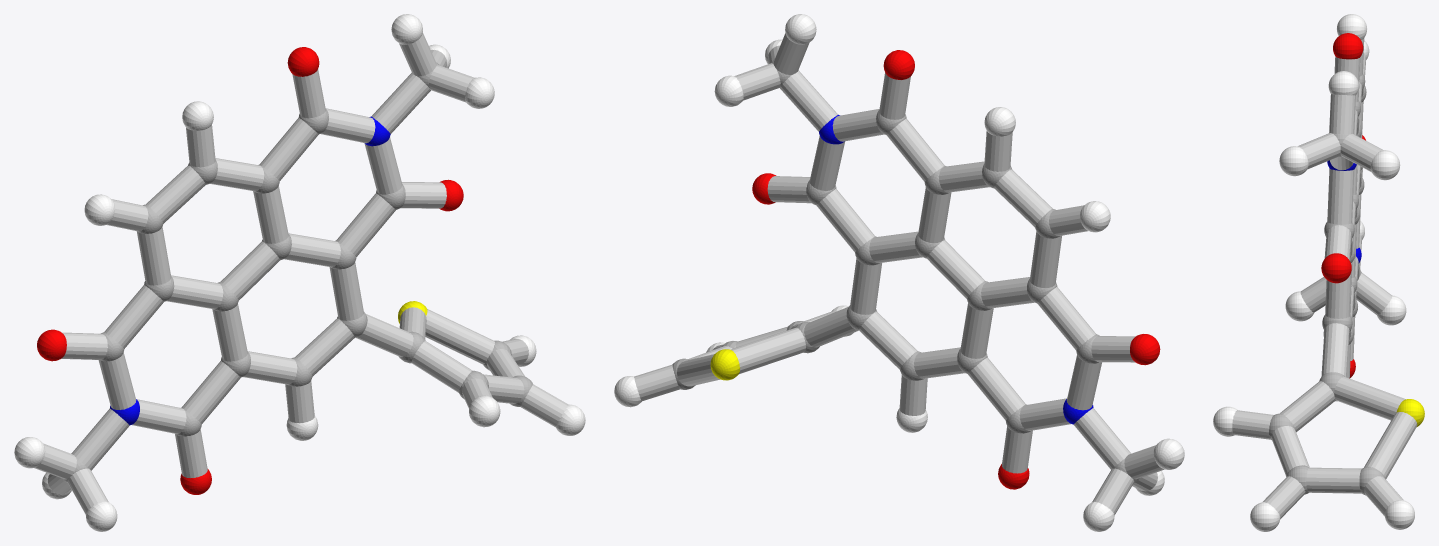
The model's file is Dimethyl_Naphthalene_Dicarboximide_Phi_5_Theta_100_Thiophene.glb.
3 renders of one model, left to right at view 1: azimuth 30°, elevation 25°; view 2: azimuth 150°, elevation 25°; view 3: azimuth 270°, elevation 25°, orthographic. The views are drawn at different scales.
Parts seen in each view (by area): view 1: grp14119, grp7241, grp1, grp12309, grp11585; view 2: grp14119, grp7241, grp1, grp12309, grp13757, grp11585; view 3: grp14119, grp7241, grp1, grp12309, grp13757.
Part boxes in pixels (x1=…): grp14119: x1=34, y1=32, x2=568, y2=514; grp7241: x1=14, y1=14, x2=585, y2=531; grp1: x1=63, y1=62, x2=532, y2=482; grp12309: x1=37, y1=47, x2=463, y2=494; grp11585: x1=110, y1=116, x2=390, y2=425; grp14119: x1=634, y1=33, x2=1164, y2=514; grp7241: x1=614, y1=14, x2=1184, y2=531; grp1: x1=672, y1=60, x2=1139, y2=482; grp12309: x1=752, y1=50, x2=1160, y2=489; grp13757: x1=710, y1=349, x2=739, y2=380; grp11585: x1=819, y1=114, x2=1093, y2=424; grp14119: x1=1232, y1=38, x2=1417, y2=518; grp7241: x1=1213, y1=14, x2=1414, y2=531; grp1: x1=1269, y1=74, x2=1385, y2=495; grp12309: x1=1321, y1=33, x2=1365, y2=378; grp13757: x1=1396, y1=399, x2=1424, y2=426.
Bounding box in the file's own units: 11.88 × 8.88 × 4.18.
